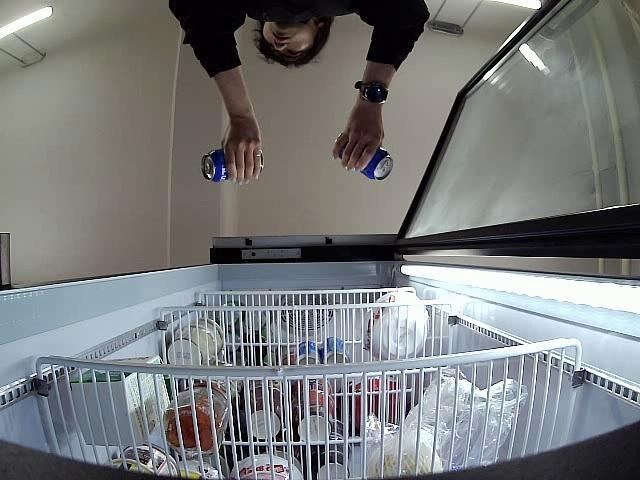13_pocariSweat: (336, 132, 394, 184), (202, 147, 266, 182)
